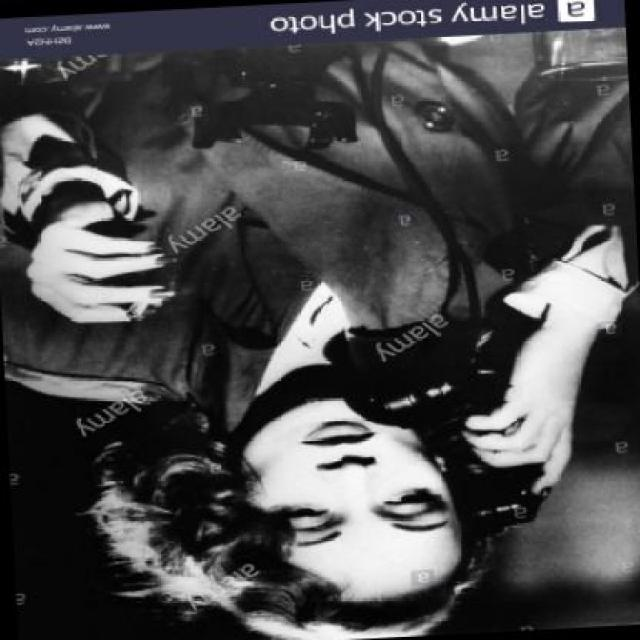cigarette: (118, 295, 154, 320)
